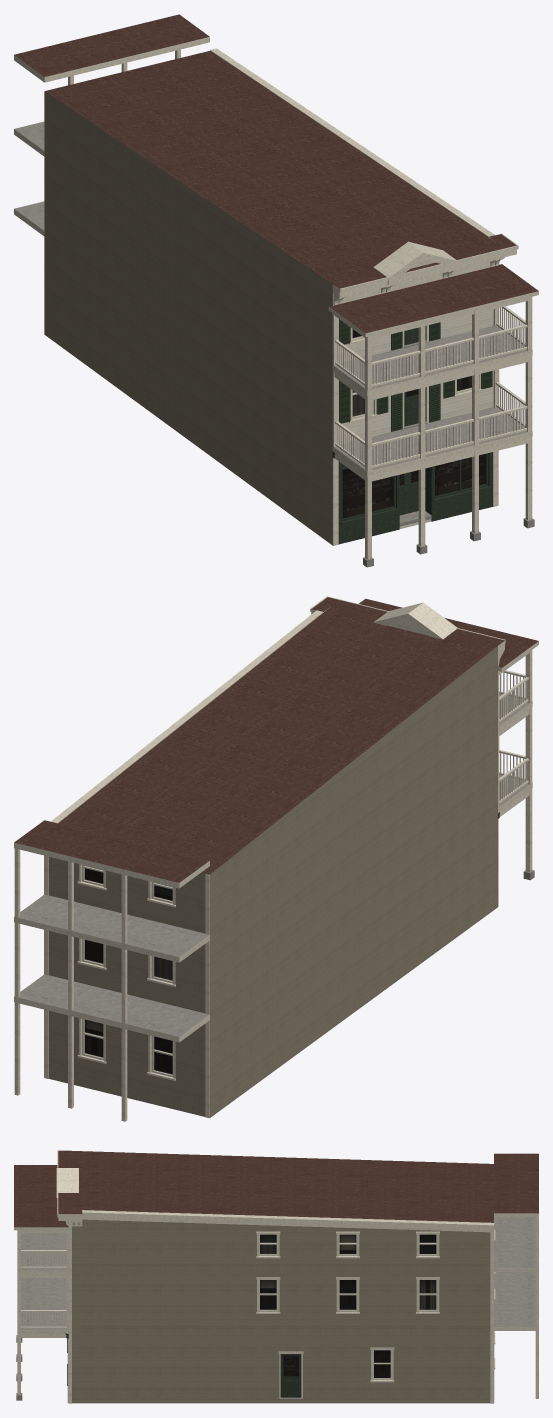
File: store-106.glb
The picture shows the model from 3 angles, top to bottom: view 1: azimuth 30°, elevation 25°; view 2: azimuth 150°, elevation 25°; view 3: azimuth 270°, elevation 25°; orthographic projection. The views are drawn at different scales.
Visible parts, largest first — view 1: Store106; view 2: Store106; view 3: Store106.
Boxes of the visible parts, bbox=[...] form: Store106: bbox=[14, 14, 538, 567]; Store106: bbox=[14, 596, 538, 1121]; Store106: bbox=[14, 1150, 538, 1403].
Bounding box in the file's own units: 6.82 × 9.95 × 23.02.
Materials: 9 (8 with a texture image).
